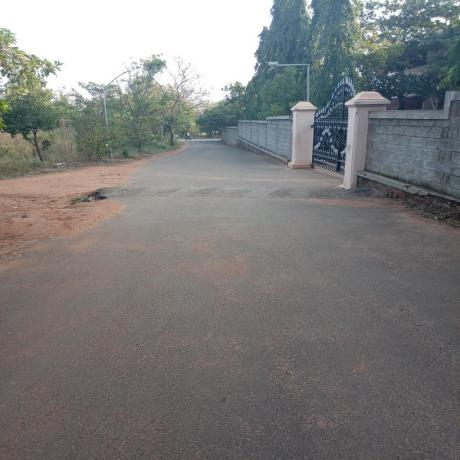Speed Bump: (78, 185, 390, 200)
